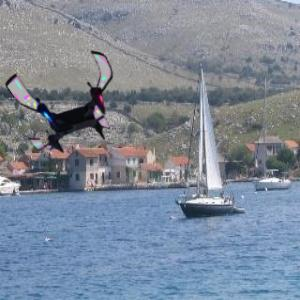drone: (12, 43, 129, 160)
